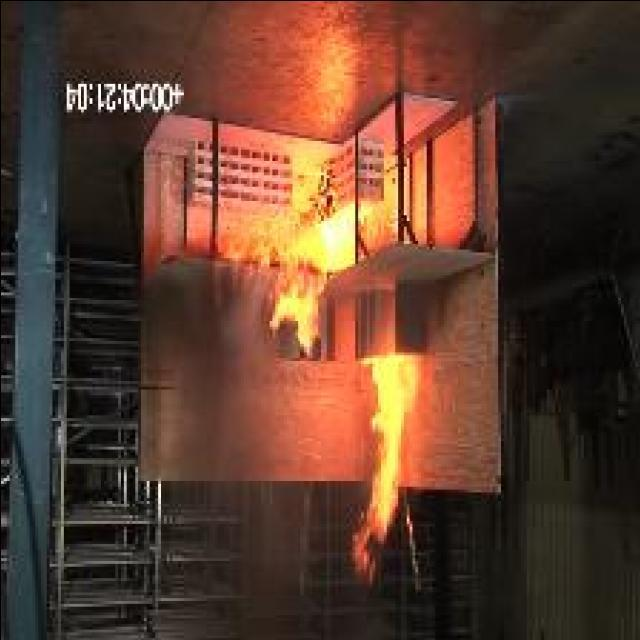Fire: (218, 168, 353, 356), (350, 354, 413, 580)
